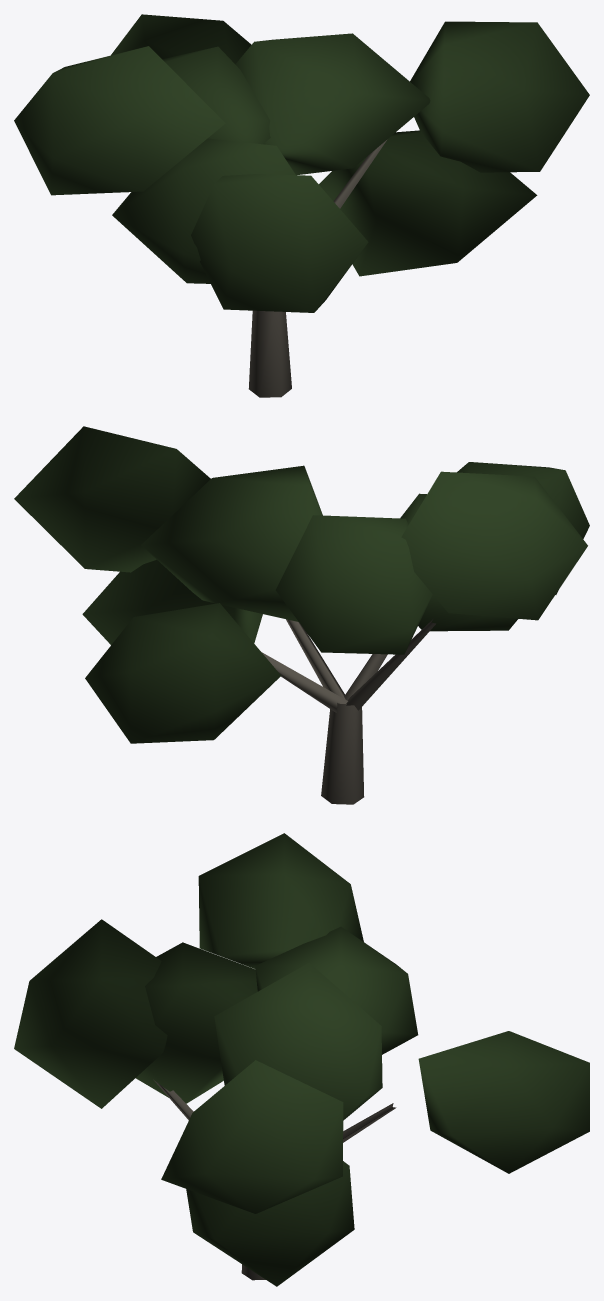
The model's file is tree_oak_far.glb.
3 renders of one model, top to bottom at view 1: azimuth 30°, elevation 25°; view 2: azimuth 150°, elevation 25°; view 3: azimuth 270°, elevation 25°, orthographic. The views are drawn at different scales.
Parts seen in each view (by area): view 1: tree_oak_far; view 2: tree_oak_far; view 3: tree_oak_far.
Boxes of the visible parts, <box> form: tree_oak_far: <box>14,14,589,397</box>; tree_oak_far: <box>14,426,589,804</box>; tree_oak_far: <box>14,833,589,1286</box>.
Size of the model in its own units: 17.67 by 11.43 by 17.18.
